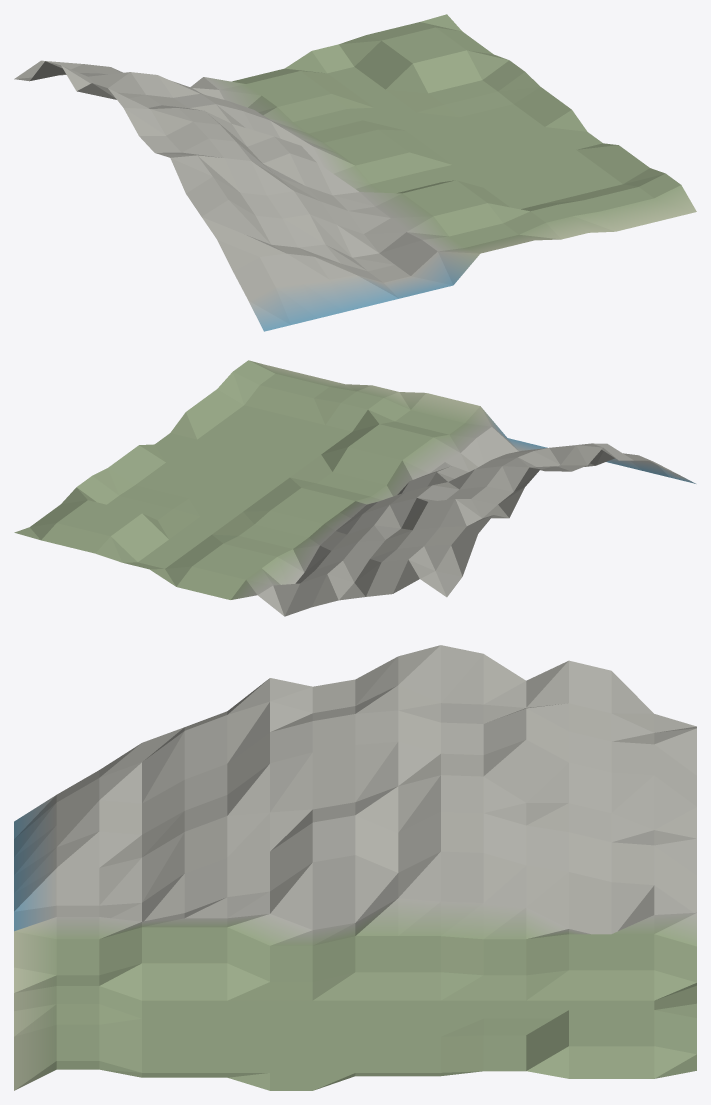
3 views of the same model, one above another, from view 1: azimuth 30°, elevation 25°; view 2: azimuth 150°, elevation 25°; view 3: azimuth 270°, elevation 25° (orthographic). The views are drawn at different scales.
Bounding box in the file's own units: 32 × 9.13 × 32.
